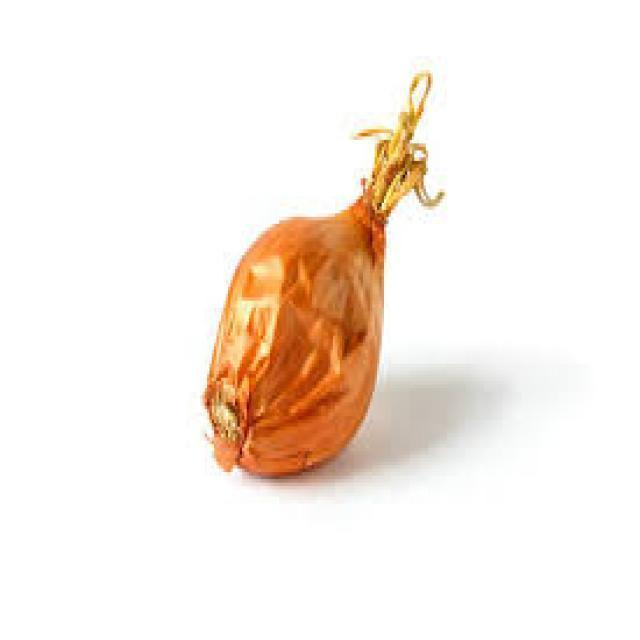Onion: (199, 70, 447, 481)
